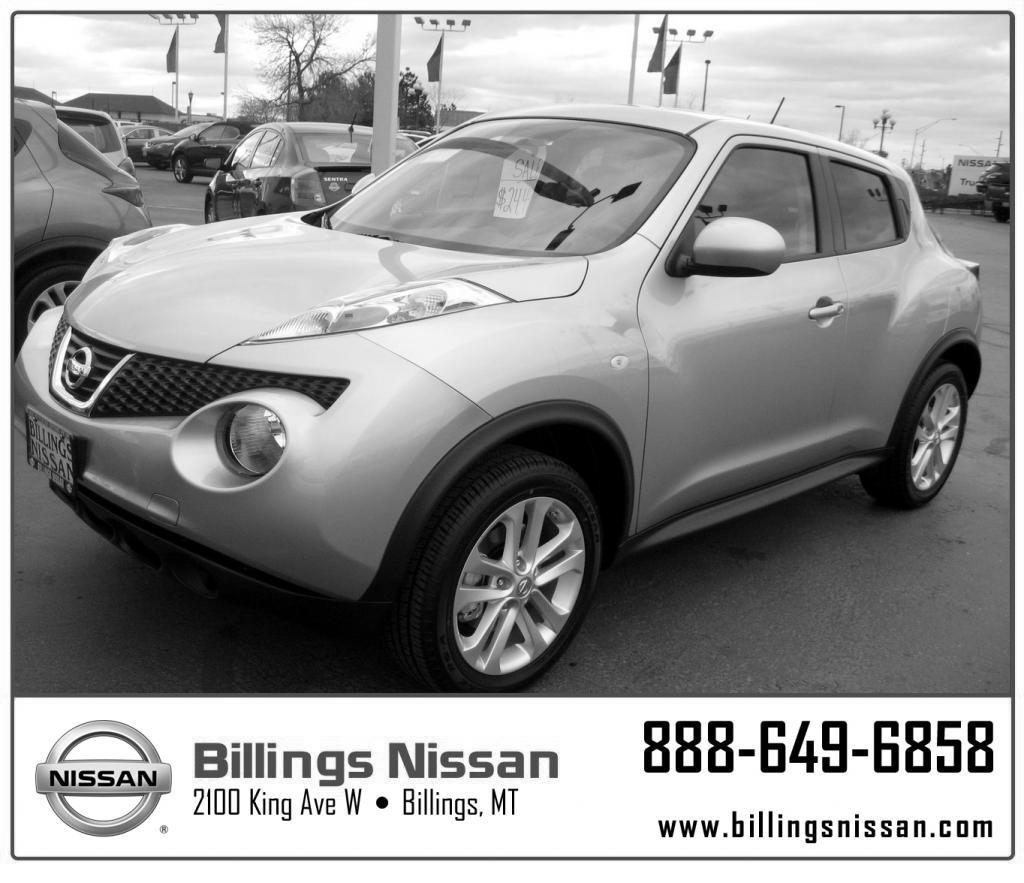car: (16, 109, 981, 694)
